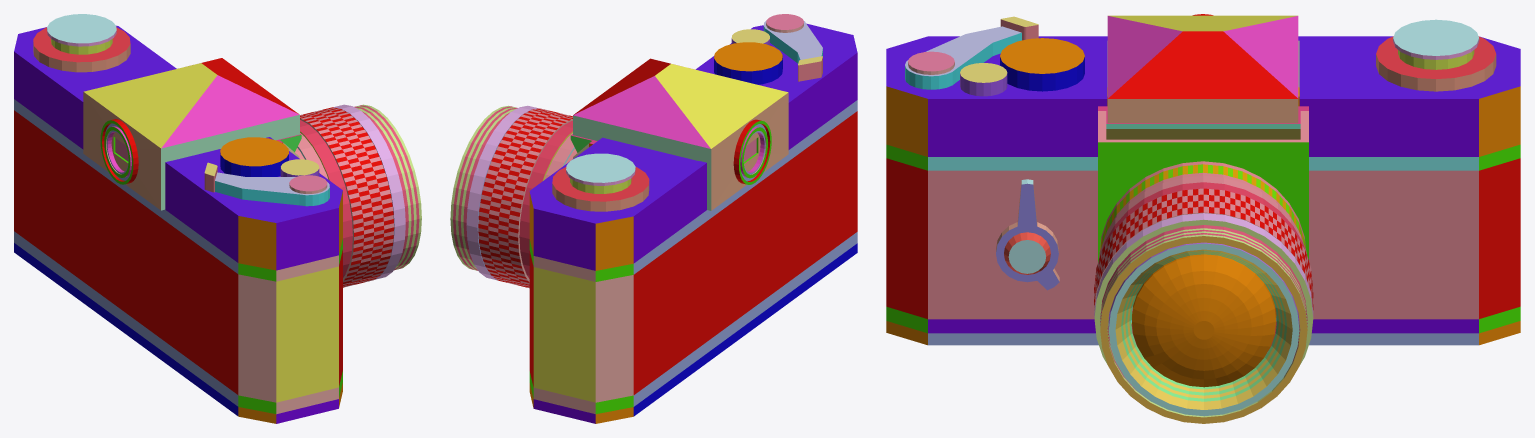
File: cannonF1_v2.glb
3 views of the same model, side by side, from view 1: azimuth 30°, elevation 25°; view 2: azimuth 150°, elevation 25°; view 3: azimuth 270°, elevation 25° (orthographic). The views are drawn at different scales.
Visible parts, largest first — view 1: squeleton, pentaprism, rubber_ring, front ring, accessory shoe, winding lever, guide pin, focusing_ring, rubber eyepiece ring, shutter release, preset_aperture_ring; view 2: squeleton, pentaprism, rubber_ring, front ring, accessory shoe, guide pin, winding lever, focusing_ring, rubber eyepiece ring, preset_aperture_ring, shutter release; view 3: squeleton, pentaprism, lense, front cover, name ring, front ring, accessory shoe, rubber_ring, winding lever, multi purpose lever, guide pin, mount_ring (+3 smaller).
Boxes of the visible parts, x1,y1,x2,y2 form: squeleton: (14,25,342,423); pentaprism: (83,58,299,210); rubber_ring: (300,107,394,287); front ring: (333,104,421,279); accessory shoe: (33,14,130,72); winding lever: (204,162,329,206); guide pin: (220,137,288,176); focusing_ring: (300,120,352,277); rubber eyepiece ring: (100,119,138,184); shutter release: (280,159,319,176); preset_aperture_ring: (297,133,328,179); squeleton: (529,23,857,423); pentaprism: (573,58,788,210); rubber_ring: (478,108,572,288); front ring: (450,105,538,280); accessory shoe: (552,153,649,211); guide pin: (714,42,782,84); winding lever: (763,14,822,81); focusing_ring: (519,120,572,278); rubber eyepiece ring: (733,119,771,184); preset_aperture_ring: (544,133,574,179); shutter release: (731,29,769,45); squeleton: (886,36,1520,345); pentaprism: (1107,15,1298,123); lense: (1132,254,1276,387); front cover: (1098,106,1308,320); name ring: (1108,242,1299,416); front ring: (1094,213,1313,423); accessory shoe: (1376,19,1496,91); rubber_ring: (1094,188,1313,312); winding lever: (905,16,1038,89); multi purpose lever: (996,179,1059,290); guide pin: (1000,38,1084,91); mount_ring: (1099,161,1306,322).
Bounding box in the file's own units: 4.27 × 3.8 × 7.26.
